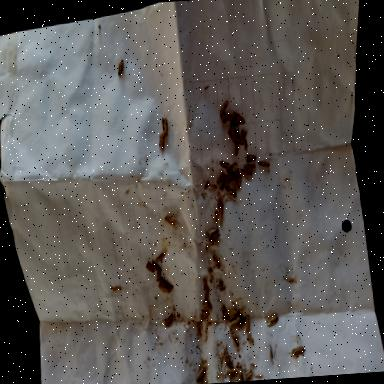pbw: (230, 330, 242, 352), (156, 132, 165, 158), (164, 214, 178, 230), (162, 312, 176, 328), (160, 116, 170, 138), (157, 280, 170, 296), (223, 111, 241, 122), (264, 314, 278, 328), (290, 346, 306, 358), (194, 367, 205, 384), (224, 162, 238, 175), (238, 128, 248, 146), (244, 330, 255, 346), (230, 114, 246, 125), (151, 258, 162, 274), (214, 192, 224, 209), (218, 174, 228, 191), (225, 129, 236, 144), (234, 168, 242, 188), (145, 260, 155, 276), (224, 185, 238, 196), (204, 228, 219, 238), (218, 100, 228, 115), (244, 316, 252, 334), (116, 58, 124, 76), (245, 153, 257, 165), (208, 231, 221, 242), (226, 318, 240, 328), (225, 308, 239, 318), (218, 208, 225, 228), (212, 255, 222, 269), (164, 280, 174, 294), (154, 252, 166, 263), (225, 354, 233, 370), (230, 126, 237, 144), (238, 167, 252, 176), (218, 160, 230, 170), (226, 367, 238, 377), (233, 140, 240, 157), (237, 365, 244, 381), (216, 172, 224, 185), (243, 162, 256, 170), (218, 110, 226, 123), (232, 309, 243, 318), (258, 160, 270, 168), (230, 178, 238, 190), (225, 171, 232, 184), (203, 287, 210, 300), (236, 320, 246, 329), (207, 182, 218, 190), (238, 306, 246, 317), (155, 270, 162, 282), (221, 306, 227, 320), (234, 126, 240, 139), (244, 372, 253, 380), (202, 278, 208, 290), (218, 280, 223, 292)
